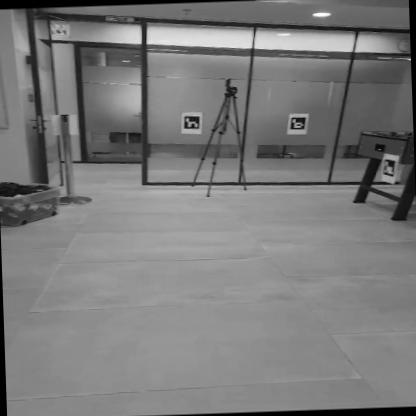open: (59, 44, 149, 192)
